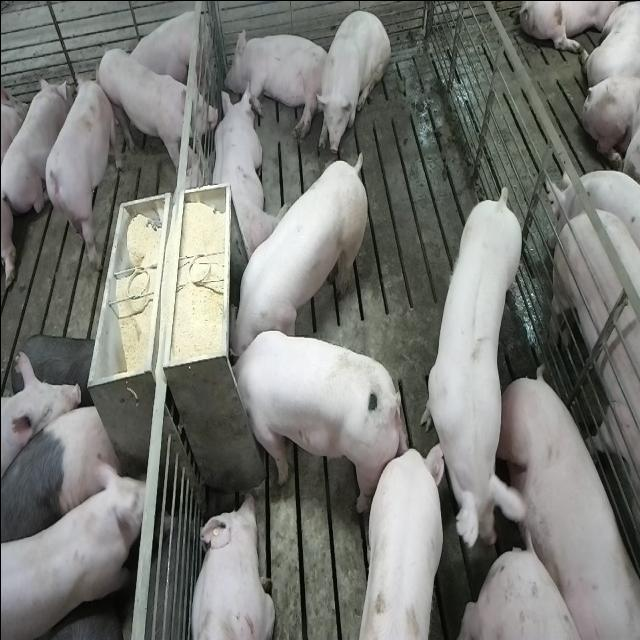Feeding: (220, 328, 398, 512), (230, 142, 372, 357)
Lateral_lying: (483, 367, 636, 640), (222, 23, 331, 140)
Sitting: (312, 7, 390, 156)
Standing: (548, 196, 640, 639), (421, 187, 526, 569), (2, 460, 146, 640), (1, 392, 118, 566), (352, 446, 441, 640), (94, 48, 220, 176), (42, 69, 116, 254)
Sternal_lying: (186, 490, 274, 640), (208, 83, 280, 264), (126, 5, 212, 92)
